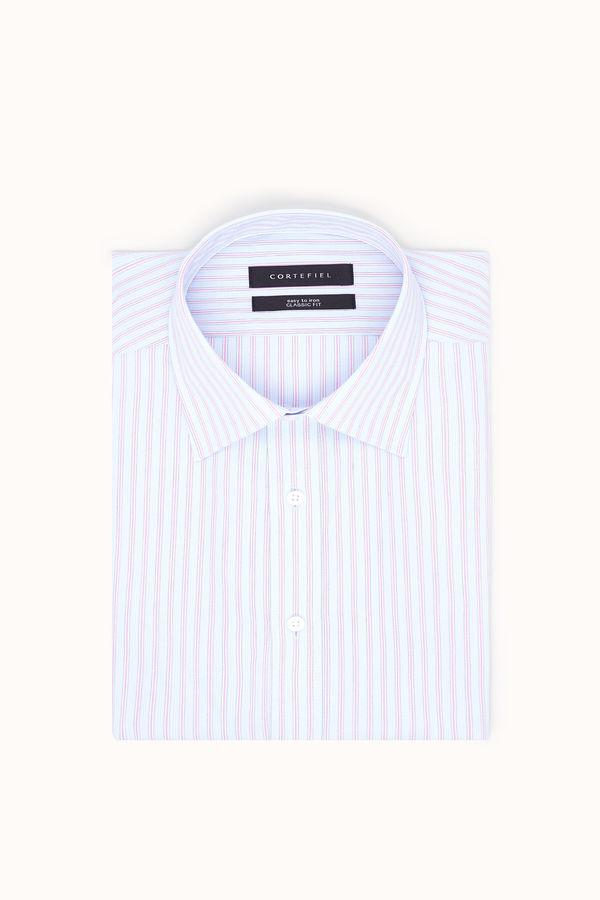teeshirt: (89, 207, 498, 745)
